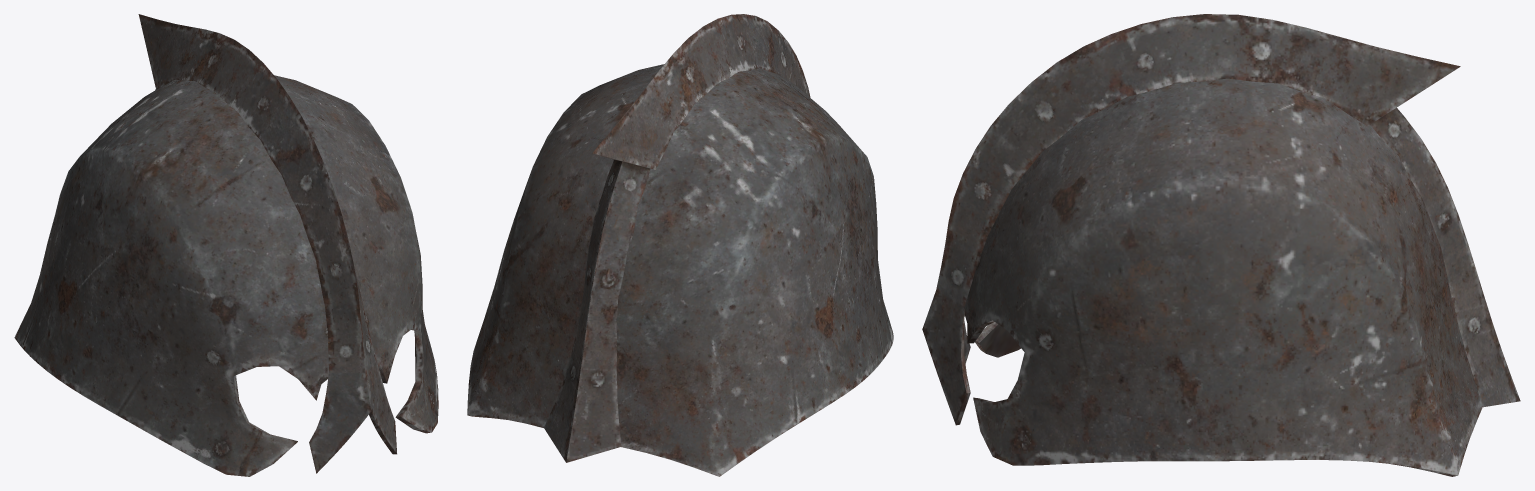
Rendered from sk_gb_uruk_helmet_med_d.fbx.
3 views of the same model, side by side, from view 1: azimuth 30°, elevation 25°; view 2: azimuth 150°, elevation 25°; view 3: azimuth 270°, elevation 25° (orthographic). The views are drawn at different scales.
Parts seen in each view (by area): view 1: sk_gb_uruk_helmet_med_d; view 2: sk_gb_uruk_helmet_med_d; view 3: sk_gb_uruk_helmet_med_d.
Part boxes in pixels (x1,y1,x2,y2): sk_gb_uruk_helmet_med_d: [14, 14, 438, 476]; sk_gb_uruk_helmet_med_d: [467, 14, 893, 476]; sk_gb_uruk_helmet_med_d: [922, 14, 1520, 476].
Bounding box in the file's own units: 0.2467 × 0.3211 × 0.2332.
Materials: 1 (1 with a texture image).
